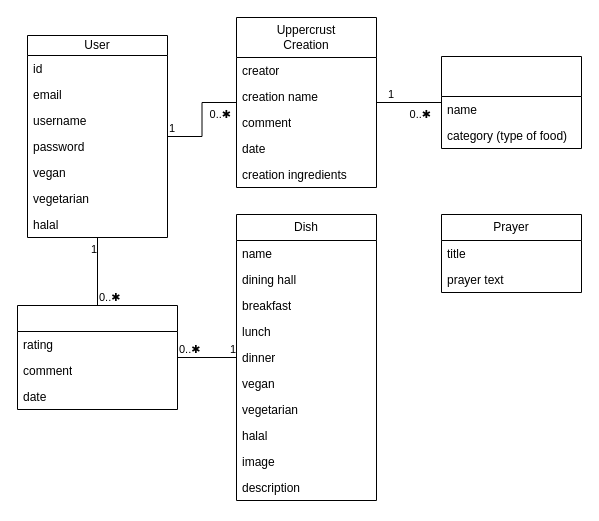
This 599x521 diagram has some shape labels left out. The box of each missing label's shape, as (x1, y1, x2, y2) in pixels:
Review: (16, 304, 178, 410)
Uppercrust Ingredient: (440, 56, 582, 148)
